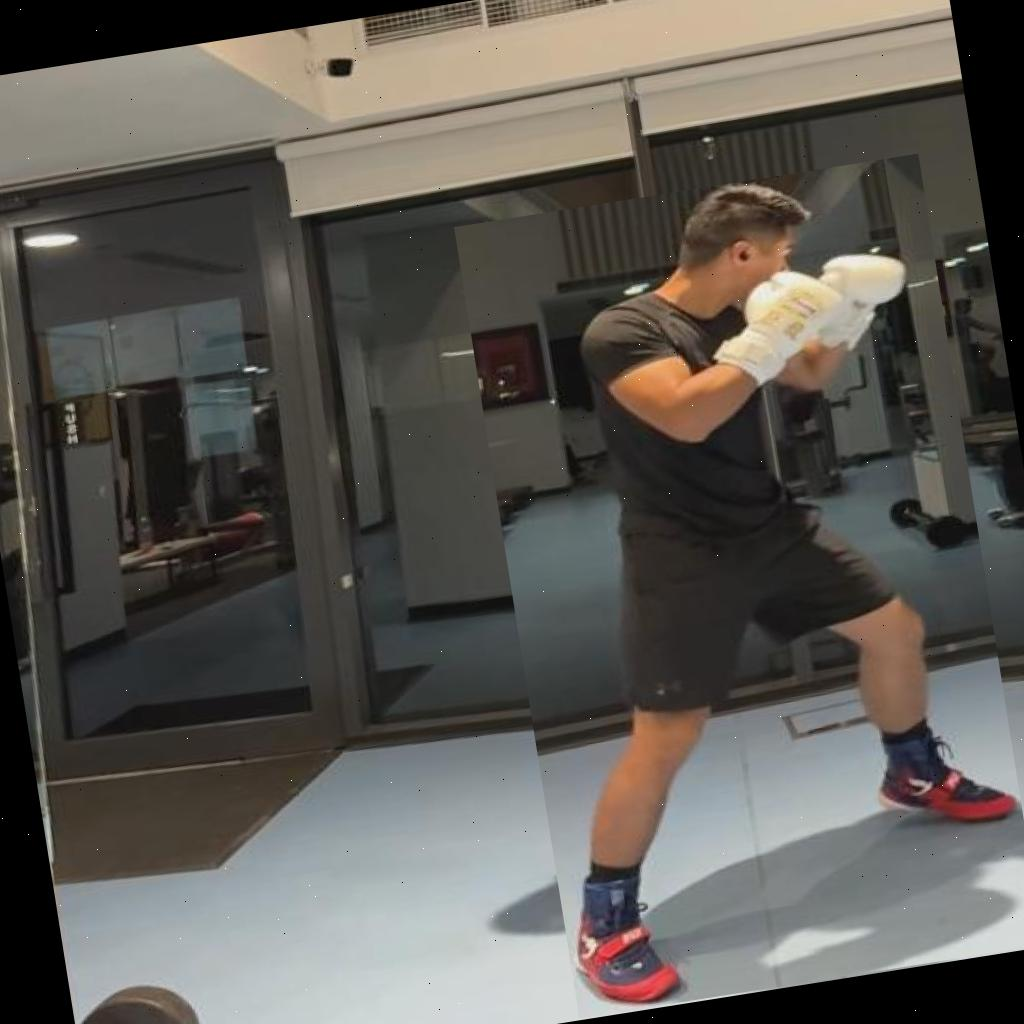no punch: (453, 153, 1024, 1018)
